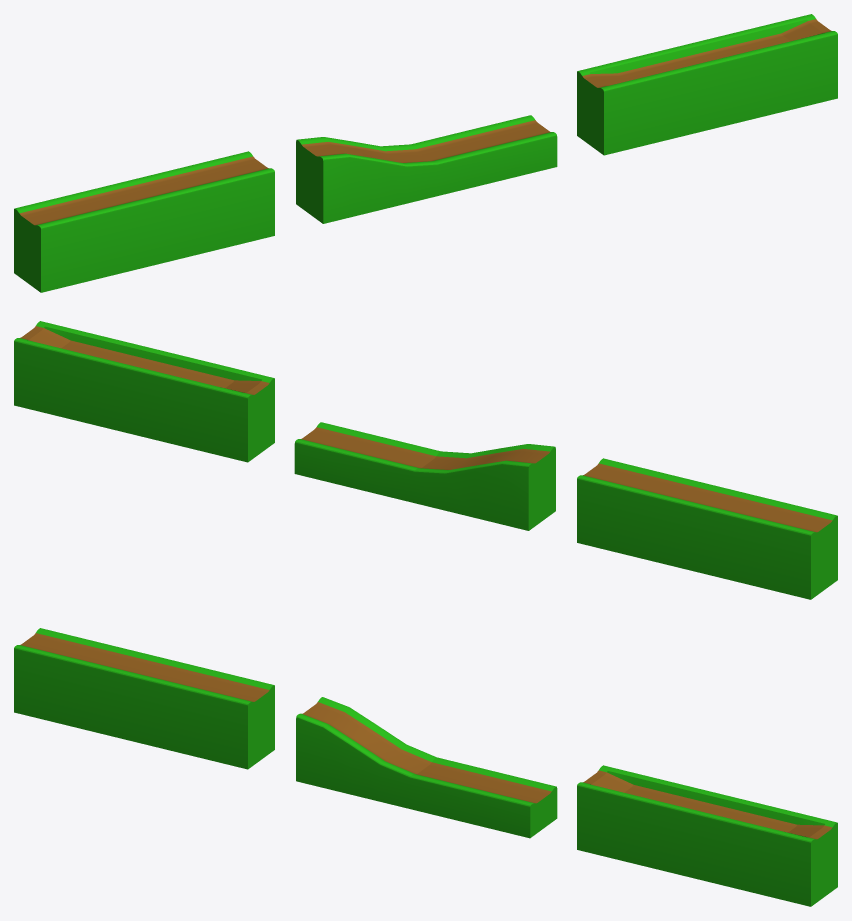
3 renders of one model, top to bottom at view 1: azimuth 30°, elevation 25°; view 2: azimuth 150°, elevation 25°; view 3: azimuth 330°, elevation 25°, orthographic.
Visible parts, largest first — view 1: Cube, Cube.002, Cube.003; view 2: Cube, Cube.002, Cube.003; view 3: Cube.002, Cube, Cube.003.
Boxes of the visible parts, x1,y1,x2,y2 form: Cube: (14,151,274,292); Cube.002: (577,14,837,155); Cube.003: (296,115,557,223); Cube: (577,458,837,599); Cube.002: (14,321,274,462); Cube.003: (294,422,555,530); Cube.002: (577,765,837,906); Cube: (14,628,274,769); Cube.003: (296,697,557,838).
Bounding box in the file's own units: 10217 × 800 × 600.
